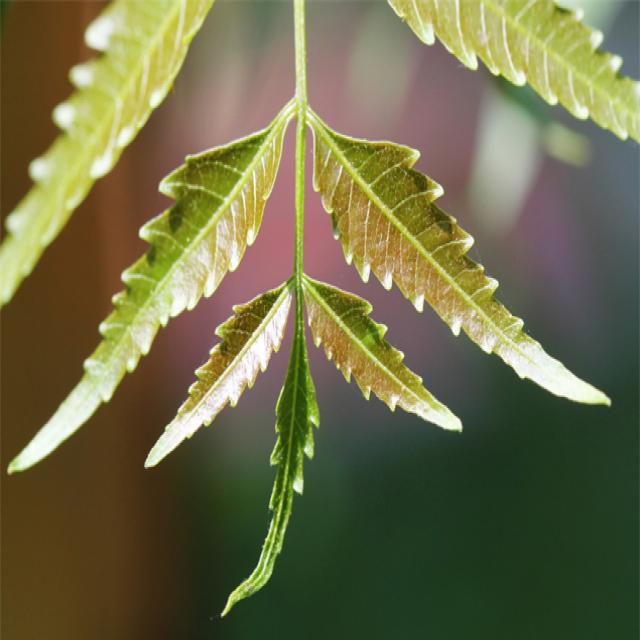Medicinal-Neem: (8, 76, 610, 618)
